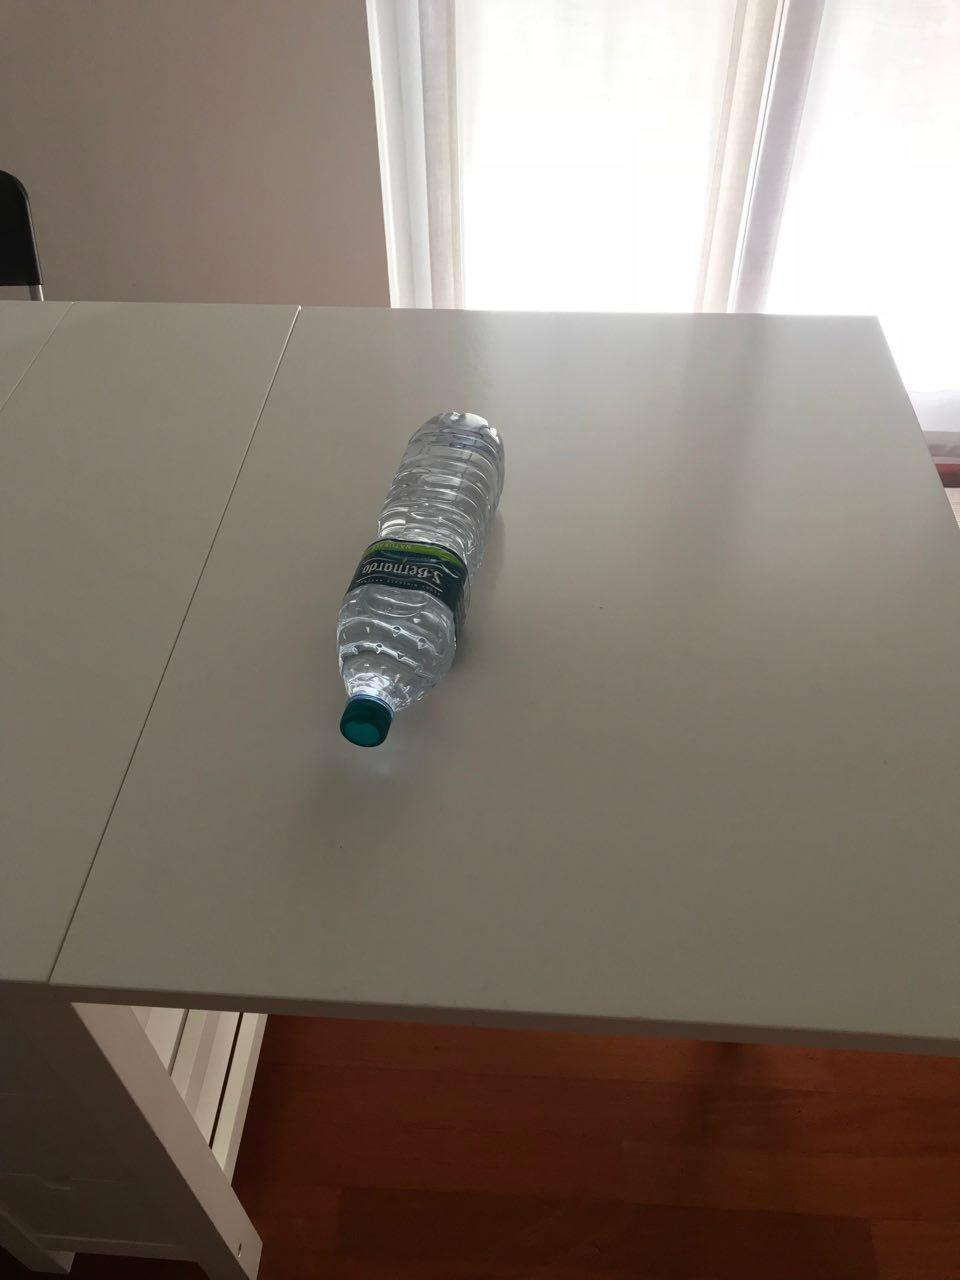san_bernardo: (334, 410, 505, 747)
